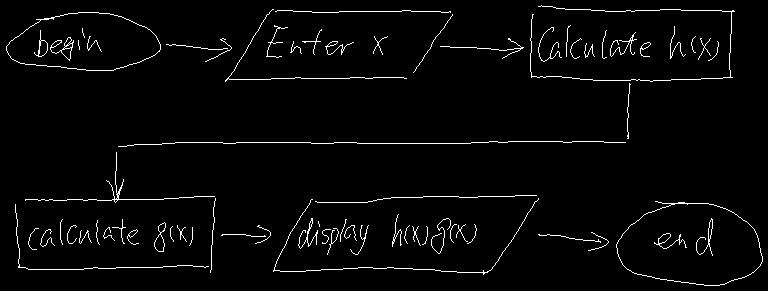arrow: (106, 83, 630, 202), (440, 38, 523, 58), (166, 38, 231, 61), (538, 232, 608, 250), (221, 225, 270, 243)
data: (273, 195, 538, 274), (225, 9, 452, 81)
process: (530, 5, 734, 81), (15, 196, 215, 272)
terminator: (616, 201, 762, 285), (6, 12, 160, 70)
text: (298, 214, 476, 254), (538, 25, 718, 61), (28, 219, 192, 251), (266, 25, 387, 57), (654, 218, 712, 255), (34, 28, 101, 60)
